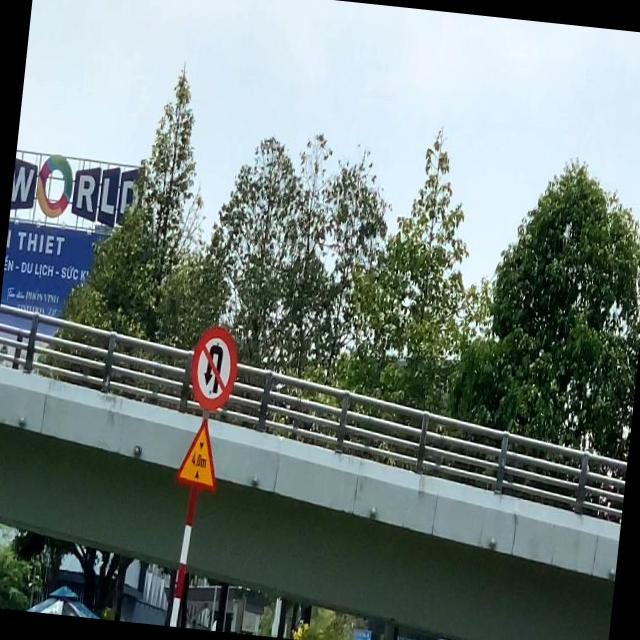P-124a1: (190, 324, 239, 411)
W-239b: (172, 414, 225, 490)
